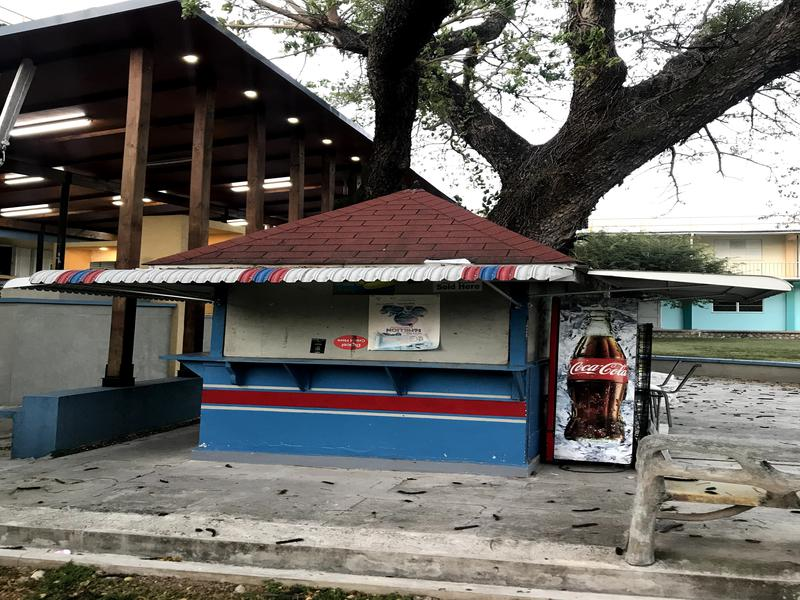18.0051667_-76.74944412_librarystall: (122, 181, 662, 514)
